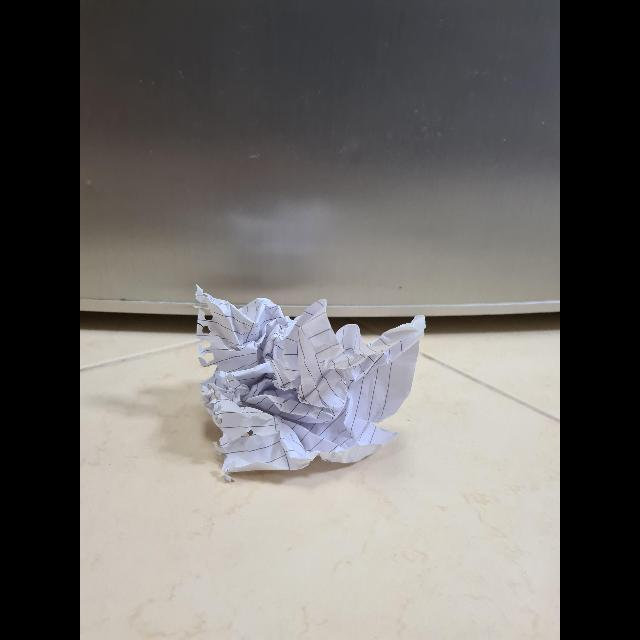trash: (183, 302, 431, 482)
